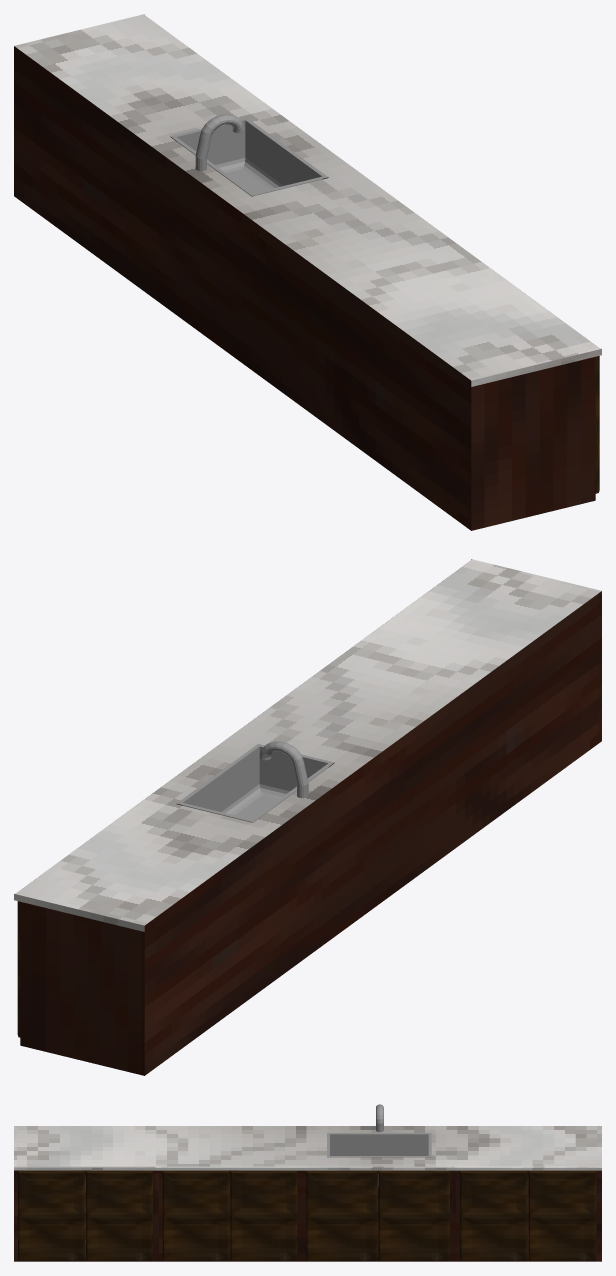
Rendered from kitchen_counter.glb.
The picture shows the model from 3 angles, top to bottom: view 1: azimuth 30°, elevation 25°; view 2: azimuth 150°, elevation 25°; view 3: azimuth 270°, elevation 25°; orthographic projection. The views are drawn at different scales.
Parts seen in each view (by area): view 1: counter, cab_door_1; view 2: counter; view 3: counter, cab_door_5, cab_door_6, cab_door_8, cab_door_7, cab_door_3, cab_door_4, cab_door_1, cab_door_2.
Boxes of the visible parts, x1,y1,x2,y2 form: counter: (14,14,601,530); cab_door_1: (595,356,599,493); counter: (14,559,601,1075); counter: (14,1104,601,1261); cab_door_5: (306,1170,377,1260); cab_door_6: (378,1170,449,1260); cab_door_8: (528,1170,596,1260); cab_door_7: (460,1170,527,1260); cab_door_3: (162,1170,229,1260); cab_door_4: (230,1170,297,1260); cab_door_1: (18,1170,84,1260); cab_door_2: (86,1170,152,1260).
Size of the model in its own units: 1.06 by 1.52 by 6.37.
Materials: 4 (3 with a texture image).
